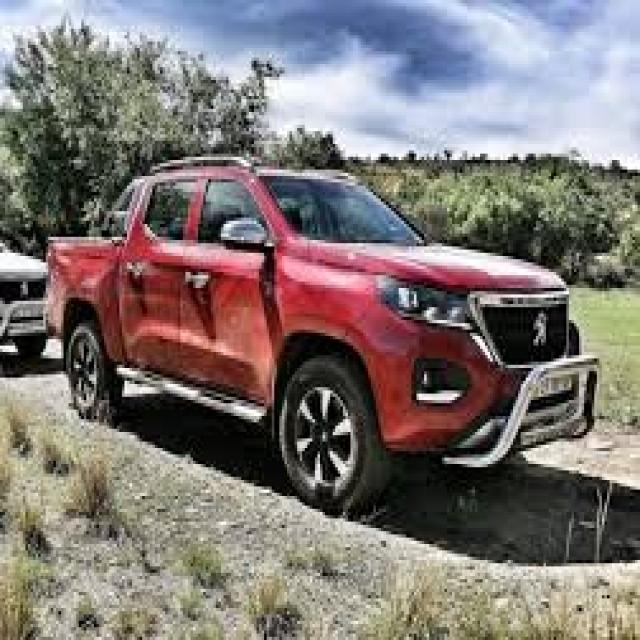Pickup Trucks: (43, 163, 600, 515)
